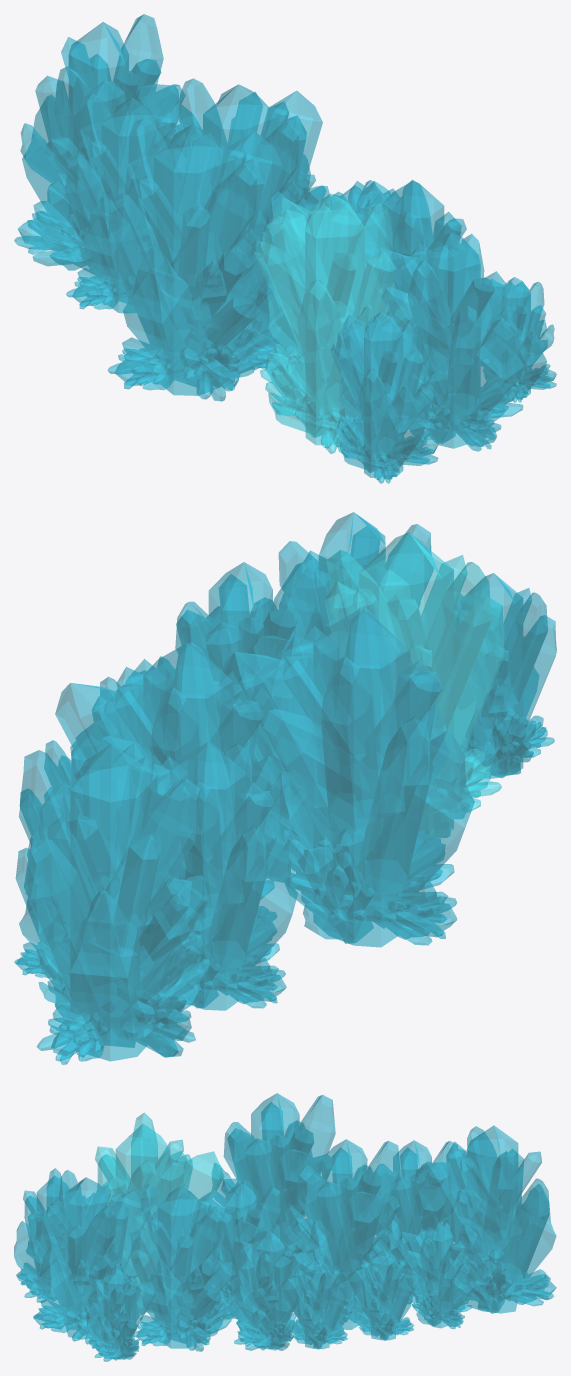
The model's file is CrystalCluster.glb.
3 renders of one model, top to bottom at view 1: azimuth 30°, elevation 25°; view 2: azimuth 150°, elevation 25°; view 3: azimuth 270°, elevation 25°, orthographic. The views are drawn at different scales.
Parts seen in each view (by area): view 1: Cube.016; view 2: Cube.016; view 3: Cube.016.
Boxes of the visible parts, left/top/right/bottom form: Cube.016: left=14, top=14, right=556, bottom=483; Cube.016: left=14, top=512, right=556, bottom=1064; Cube.016: left=14, top=1093, right=556, bottom=1361.
Bounding box in the file's own units: 3.97 × 3.04 × 7.61.
